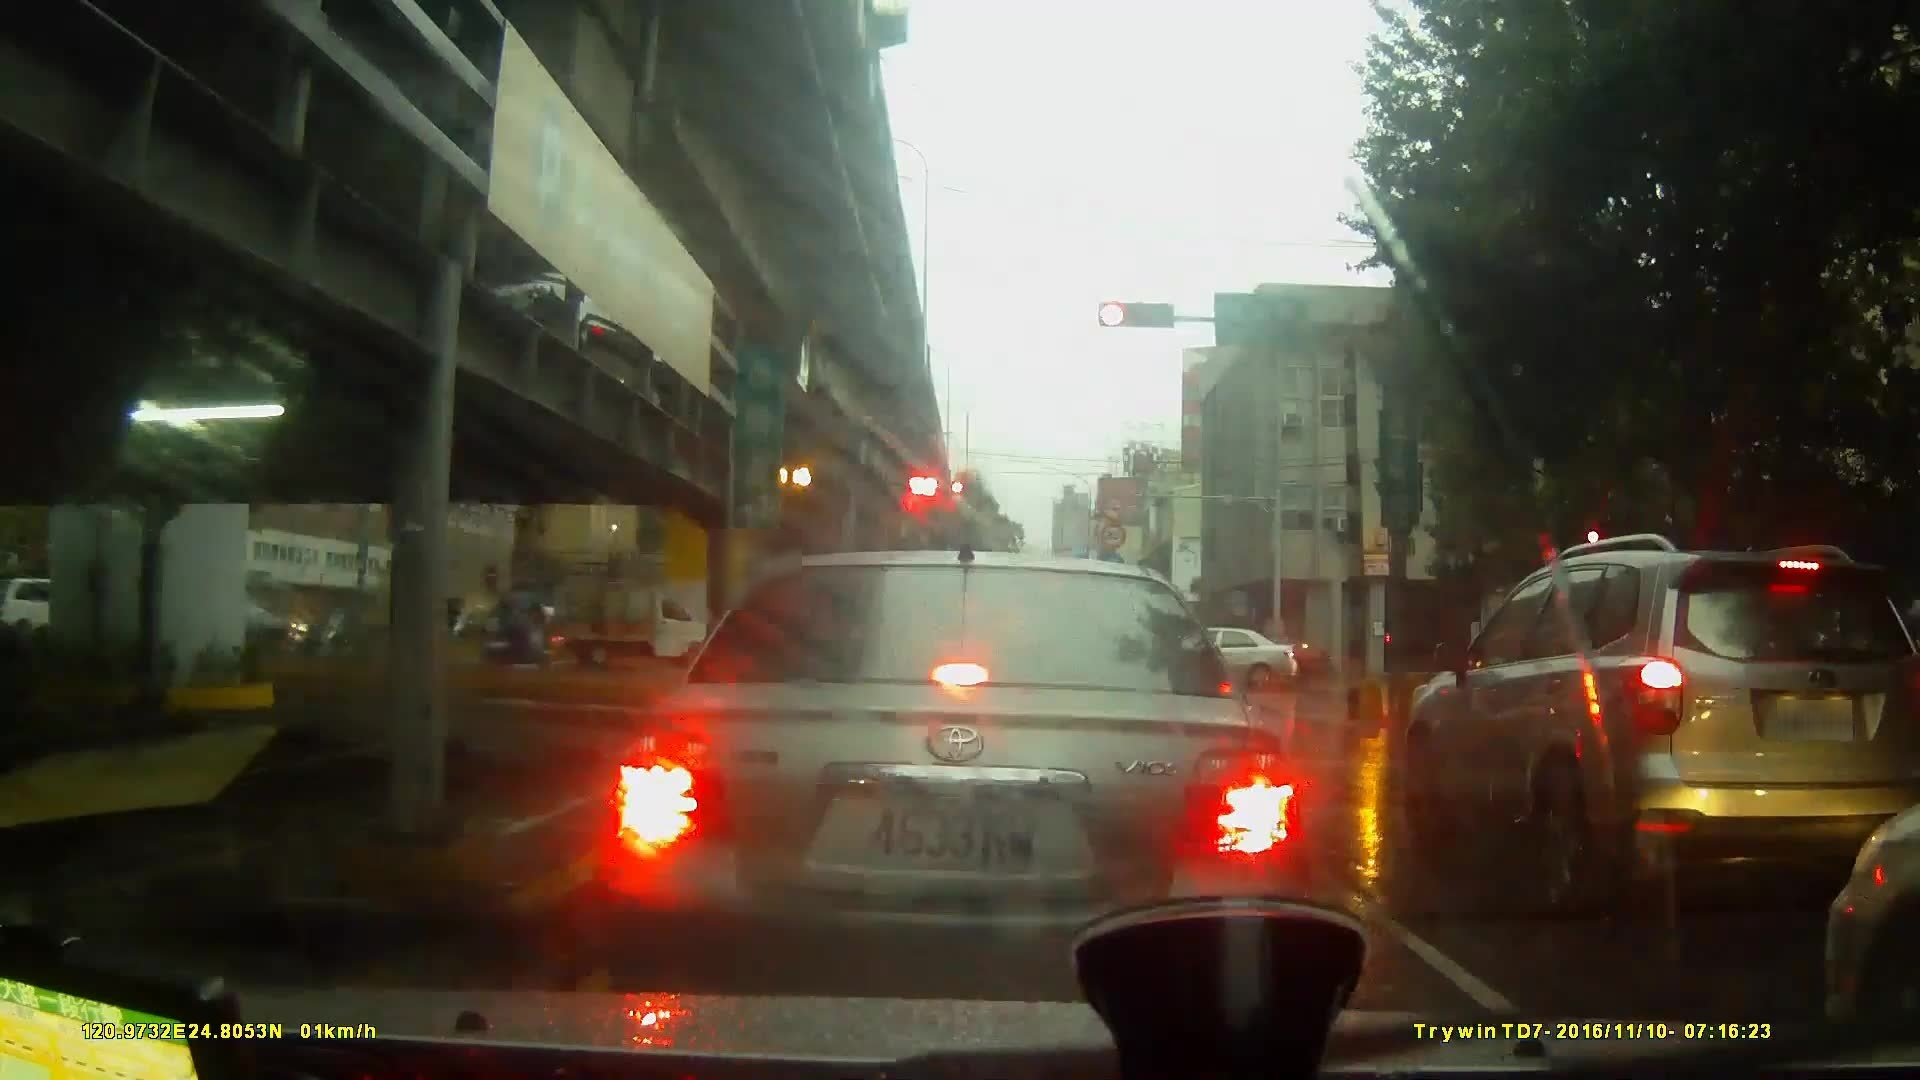scooter: (481, 603, 553, 666)
vehicle: (603, 545, 1323, 1062), (1404, 527, 1920, 923), (550, 571, 707, 665), (1129, 621, 1300, 690)
